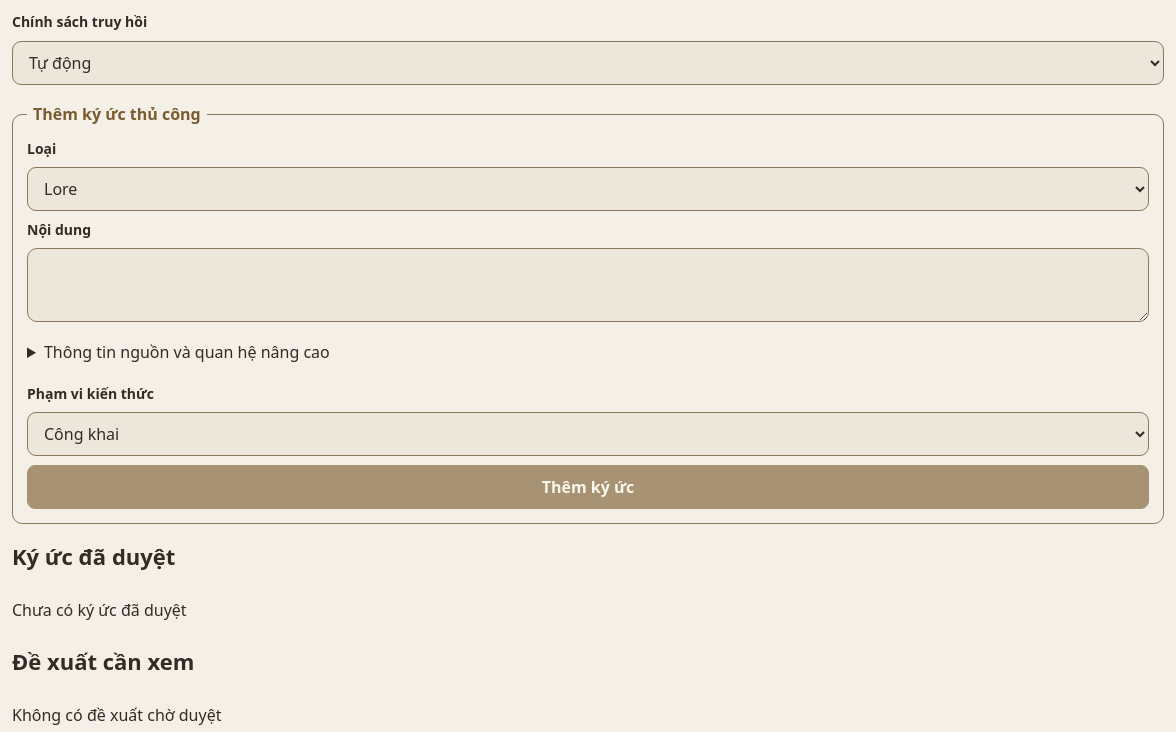
it: MemoryLibrary › shows saved status after a create acknowledgement even when refresh fails
Expected: the text "Chưa có ký ức đã duyệt" is shown, [12,599,187,621]
Type "Synthetic memory" into the text box labelled "Nội dung". click: [588, 285]
box: [27,248,1149,322]
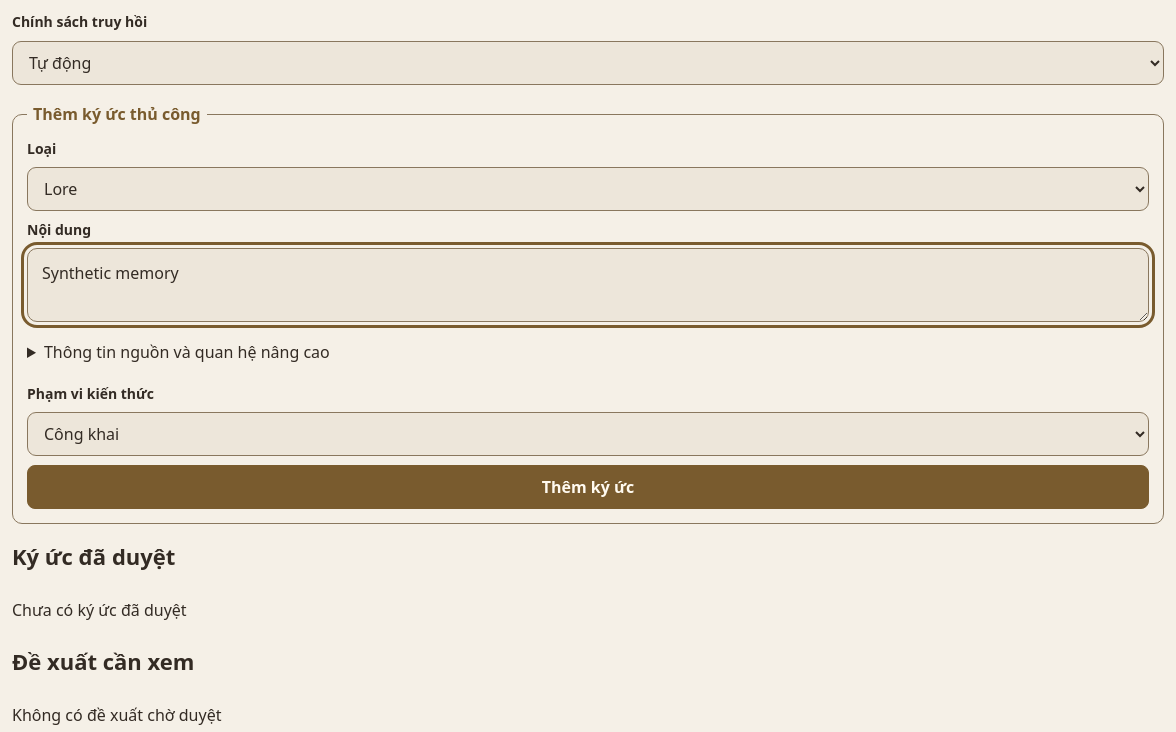
Click the button "Thêm ký ức". click: [588, 487]
box: [27,465,1149,509]
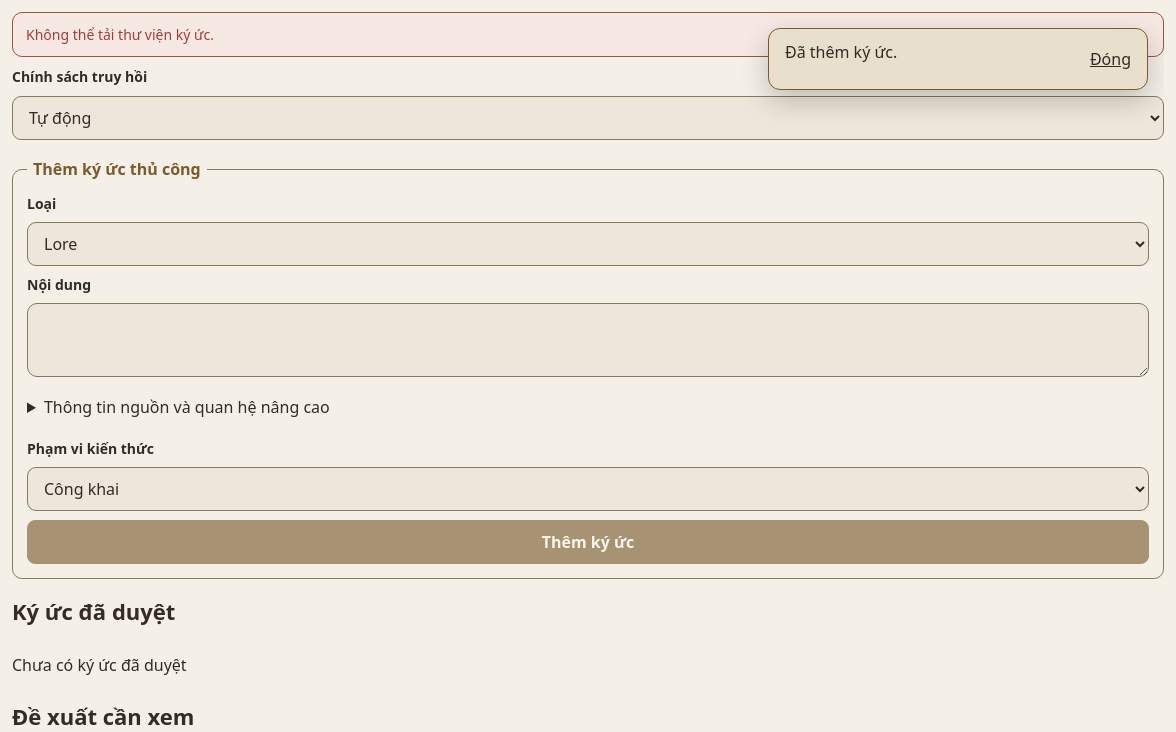
Expected: the message "Đã thêm ký ức. Đóng" is shown, [768,28,1148,90]
Expected: the message "Không thể tải thư viện ký ức." is shown, [12,12,1164,57]
